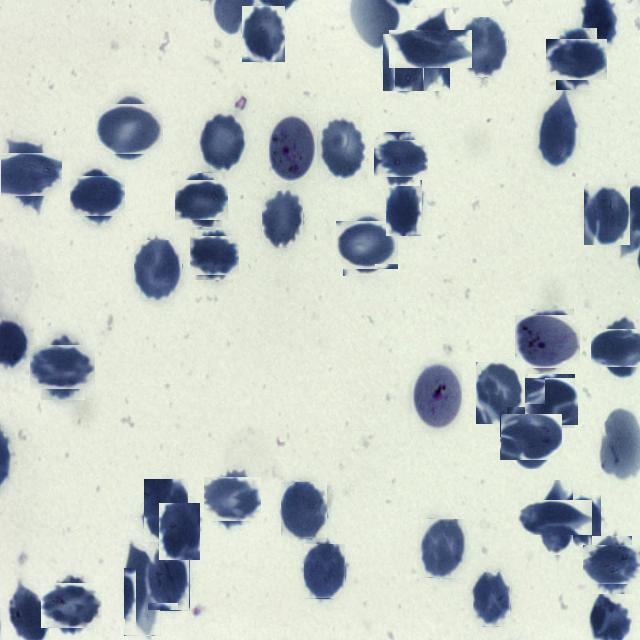red blood cell: (400, 19, 461, 80), (99, 98, 159, 158), (124, 544, 161, 636), (0, 146, 56, 202), (339, 217, 395, 272), (476, 362, 525, 424), (528, 490, 583, 545), (134, 240, 182, 302), (44, 578, 99, 632), (503, 410, 558, 464), (460, 17, 508, 78), (538, 91, 576, 168), (36, 340, 90, 394), (319, 117, 366, 179), (420, 519, 468, 578), (144, 479, 188, 542), (198, 113, 245, 171), (584, 186, 630, 245), (550, 33, 602, 85), (281, 482, 328, 539), (207, 474, 258, 525), (242, 6, 286, 63), (526, 376, 576, 426), (382, 34, 424, 92), (148, 553, 190, 611), (588, 540, 636, 590), (262, 191, 304, 248), (159, 503, 200, 560), (304, 544, 346, 599), (74, 172, 122, 220), (178, 176, 226, 224), (597, 323, 640, 373), (473, 572, 511, 627), (378, 136, 423, 182), (386, 180, 422, 236), (563, 495, 601, 547), (192, 233, 236, 277)
ring: (517, 312, 577, 372), (412, 362, 462, 431), (269, 114, 318, 182)
